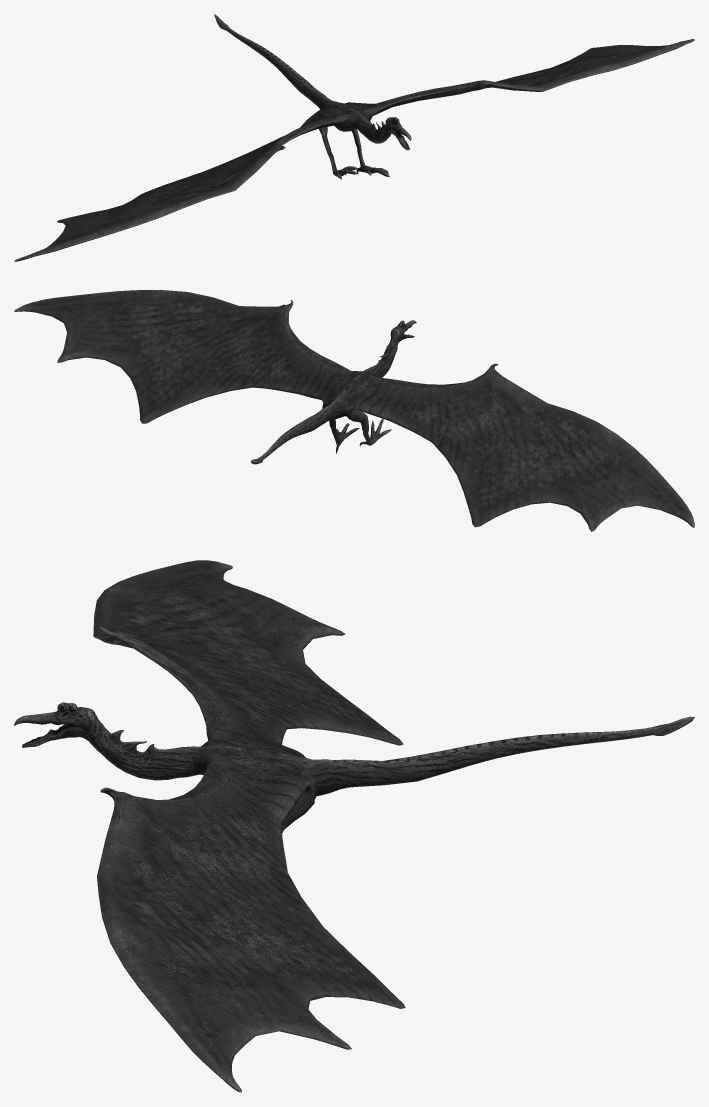
Rendered from Fellbeast_Animate_Grab_Glide_23.obj.
3 views of the same model, one above another, from view 1: azimuth 30°, elevation 25°; view 2: azimuth 150°, elevation 25°; view 3: azimuth 270°, elevation 25° (orthographic). The views are drawn at different scales.
Parts seen in each view (by area): view 1: Fellbeast; view 2: Fellbeast; view 3: Fellbeast.
Part boxes in pixels (x1,y1,x2,y2): Fellbeast: [14, 14, 694, 261]; Fellbeast: [14, 290, 694, 531]; Fellbeast: [14, 560, 694, 1092].
Bounding box in the file's own units: 9.45 × 1.4 × 4.35.
